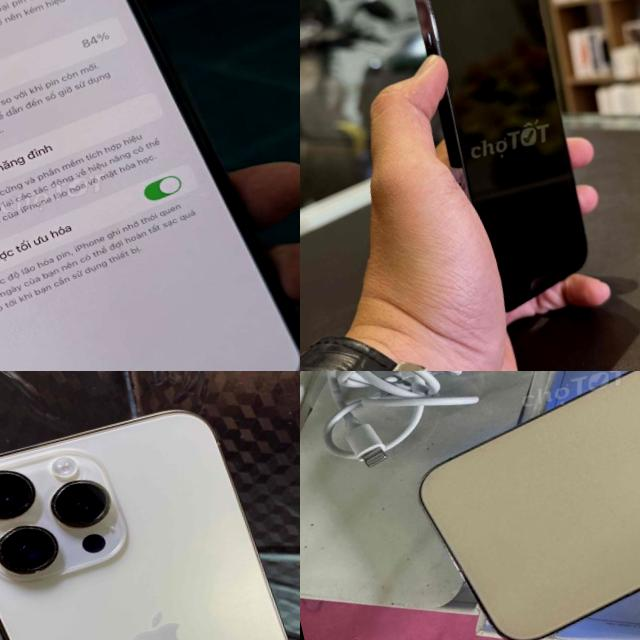gen_11: (0, 0, 300, 371)
gen_12_13: (390, 0, 612, 324)
gen_14: (0, 379, 300, 640), (383, 371, 640, 640)
